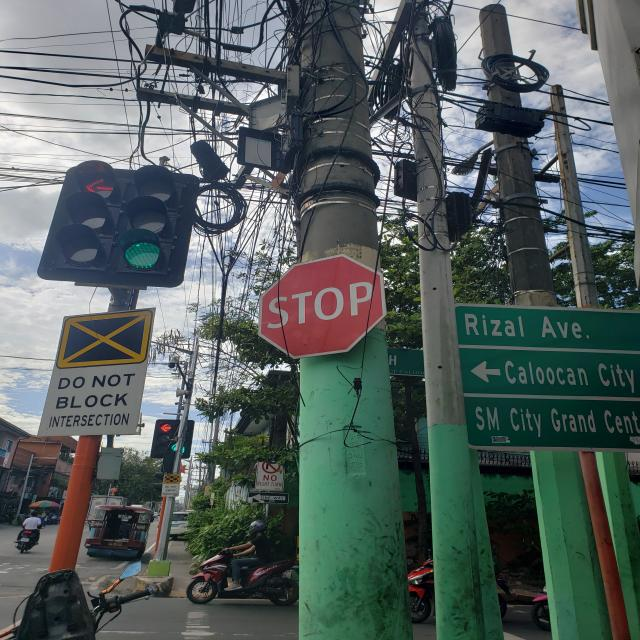stop-sign: (258, 254, 387, 359)
